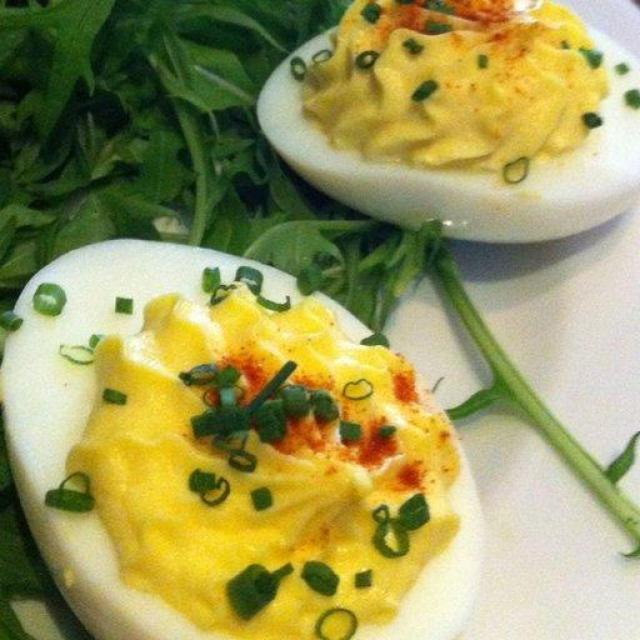food_waste: (1, 237, 482, 640), (260, 4, 640, 245)
